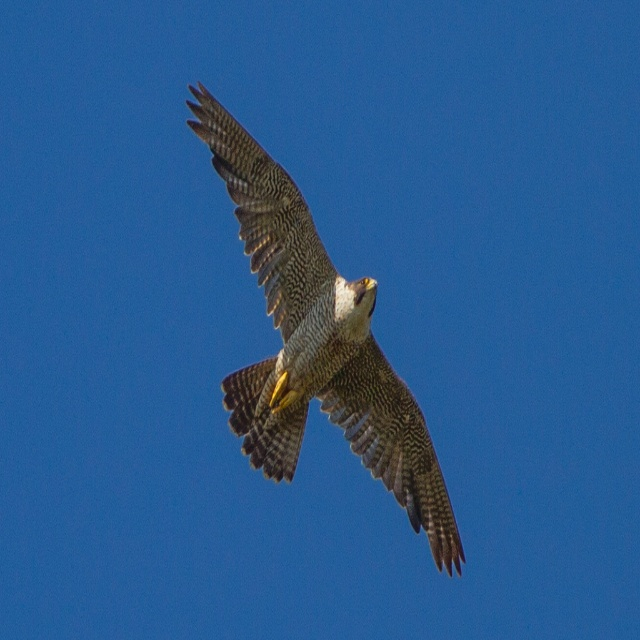Eagle: (184, 82, 465, 582)
